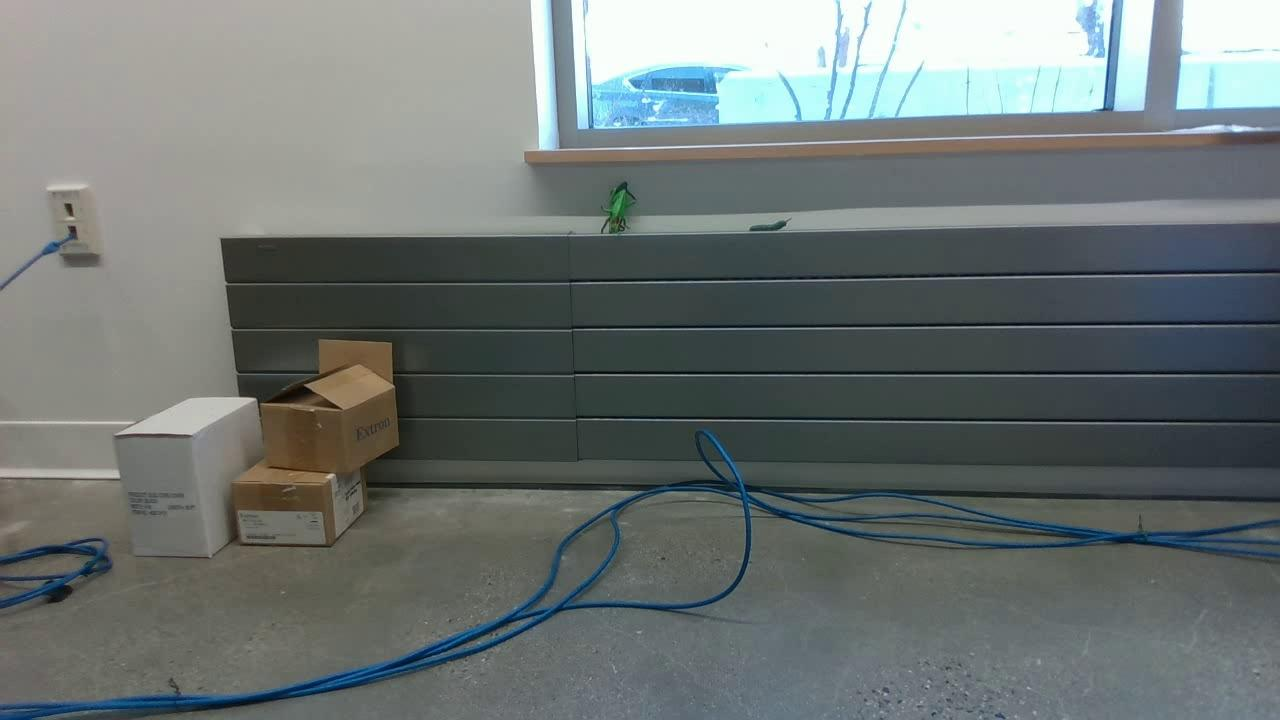grasshopper: (599, 182, 638, 232)
